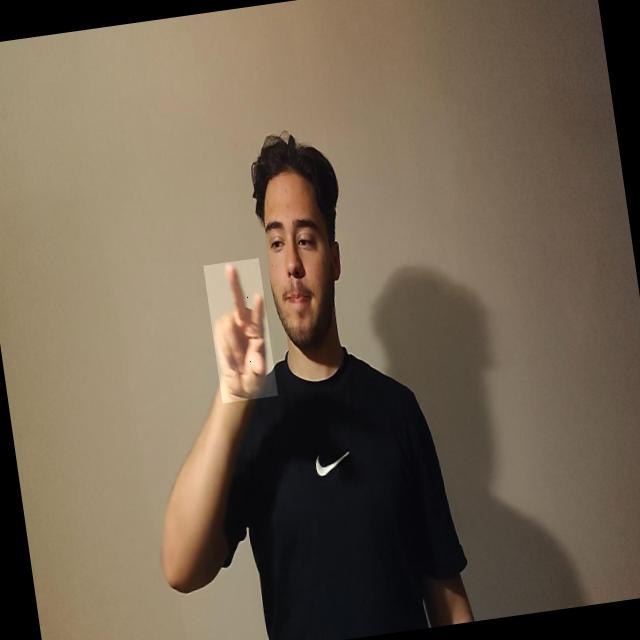no: (203, 257, 278, 403)
